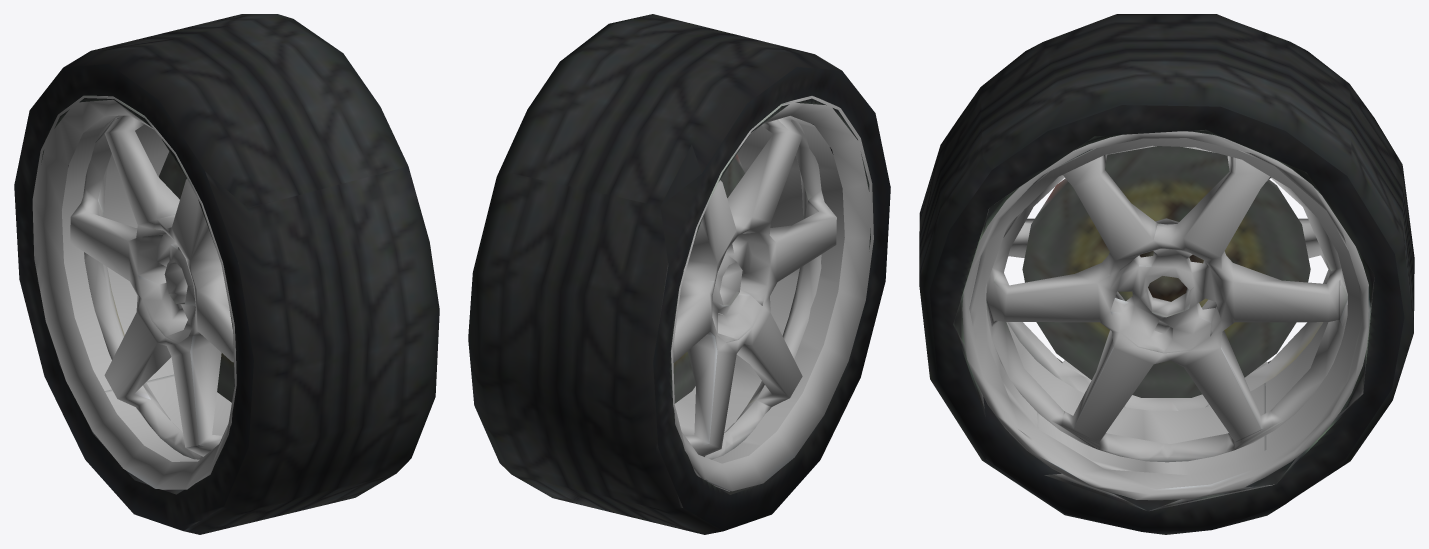
The model's file is pegeout_wheel.obj.
The picture shows the model from 3 angles, left to right: view 1: azimuth 30°, elevation 25°; view 2: azimuth 150°, elevation 25°; view 3: azimuth 270°, elevation 25°; orthographic projection.
Visible parts, largest first — view 1: Mesh; view 2: Mesh; view 3: Mesh.
Part boxes in pixels (x1,y1,x2,y2): Mesh: (14, 14, 439, 534); Mesh: (468, 14, 890, 534); Mesh: (919, 14, 1414, 534).
Size of the model in its own units: 0.8858 by 2 by 2.
Materials: 2 (2 with a texture image).
